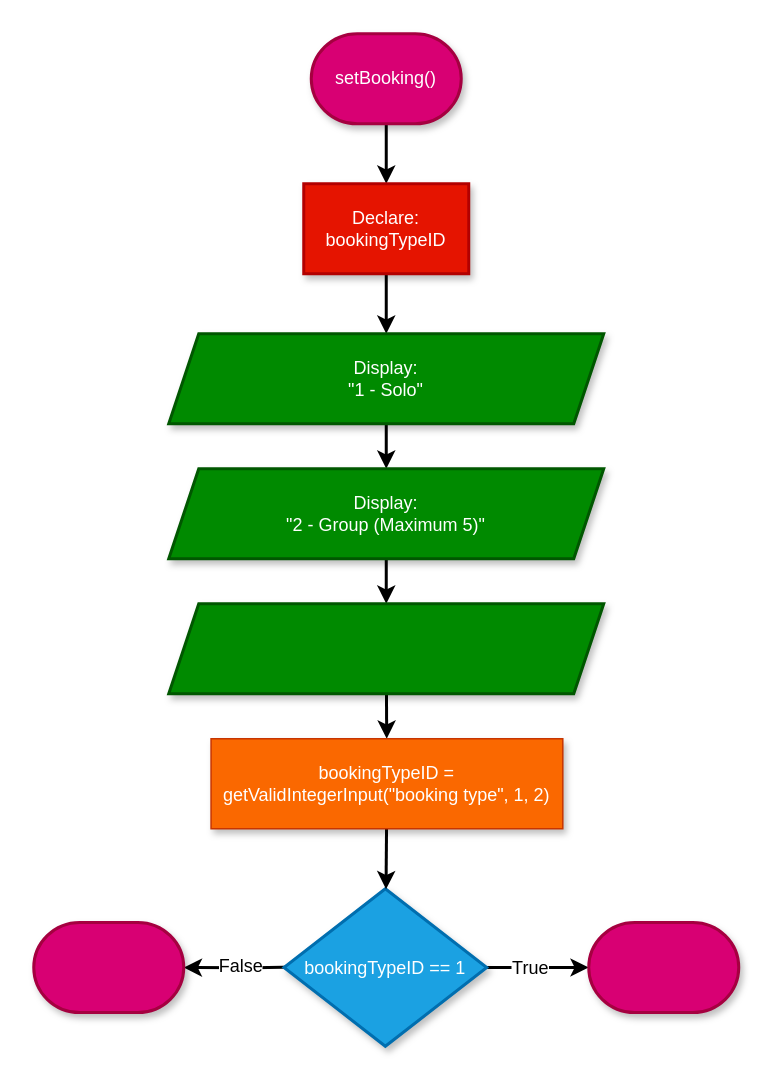
The diagram is 774 pixels wide and 1083 high, and some of its shapes have lost their labels. The centre of each missing label's shape, as x and y in pixels:
Prompt: "Please choose your desired booking (1 - 2): ": [387,650]
return "Group": [110,969]
return "Solo": [664,969]
